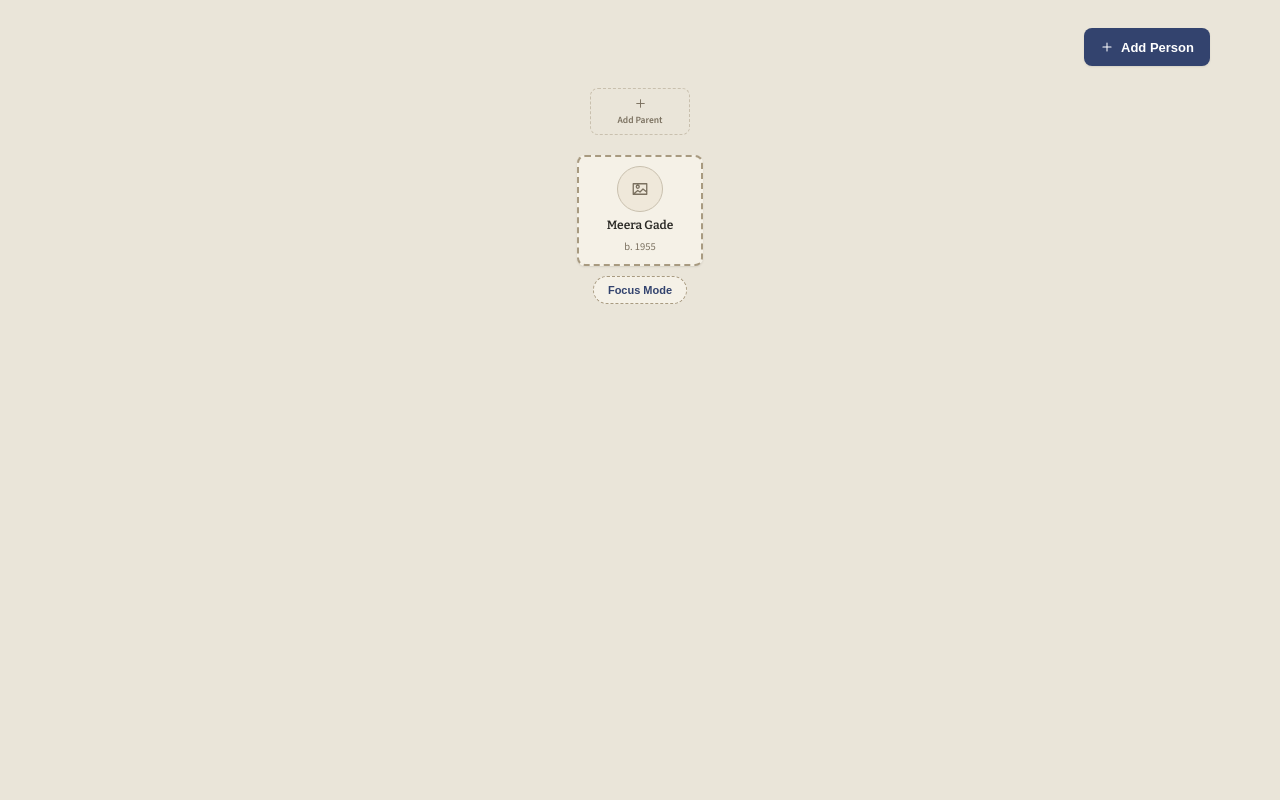
Test case: the close button on a profile returns to the bare tree
Click the text "Meera Gade" at {"x": 640, "y": 226}, box [607,218,673,233]
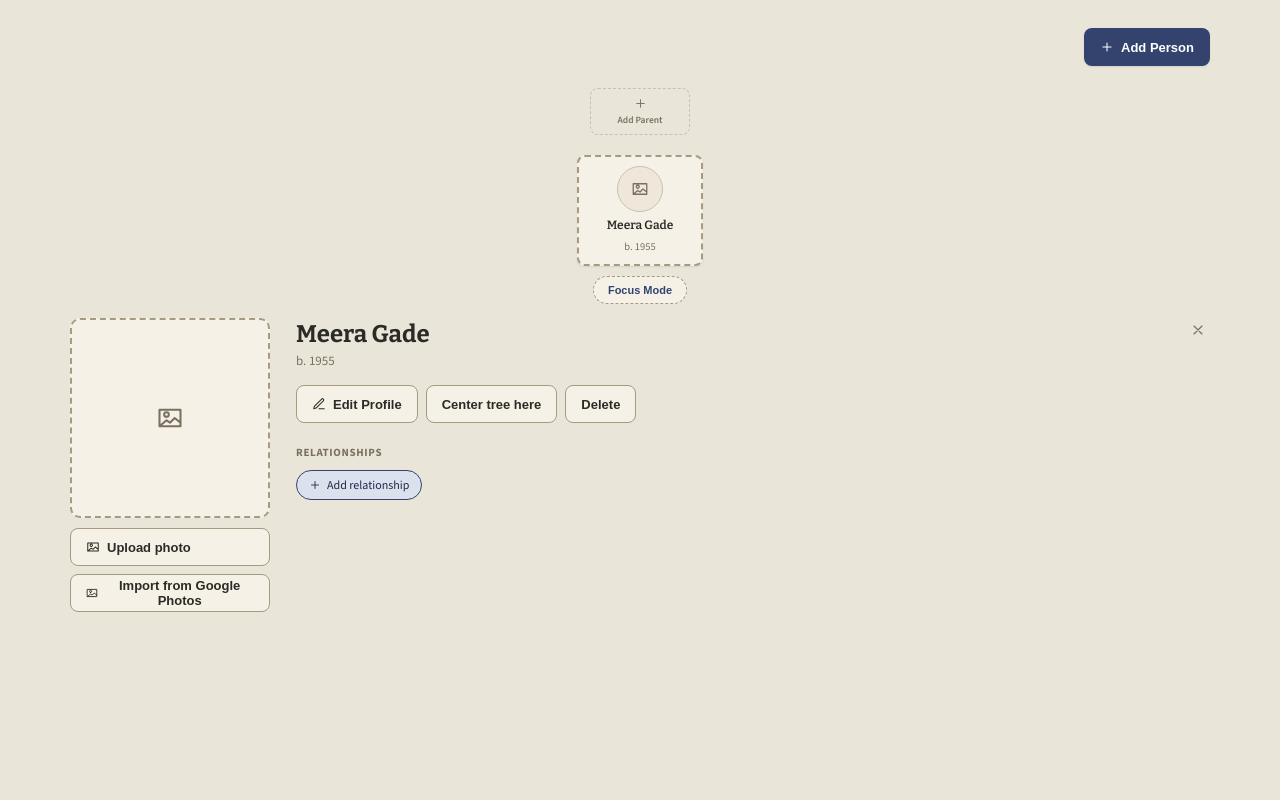
Check: the button "Edit Profile" is shown, box [296,385,418,423]
Click the button named "Close profile" at {"x": 1198, "y": 330}, box [1186,318,1210,342]
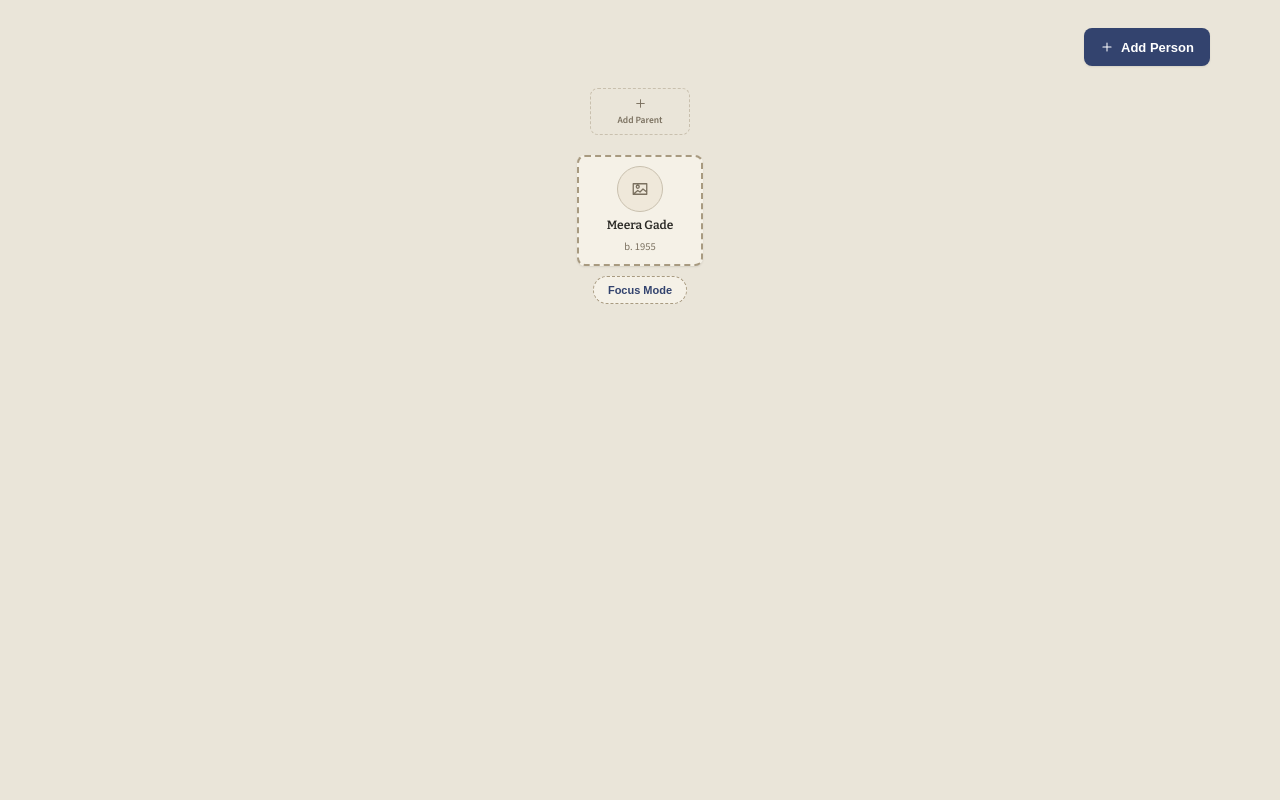
Check: the text "Meera Gade" is shown, box [607,218,673,233]
Check: the button "Edit Profile" is gone
